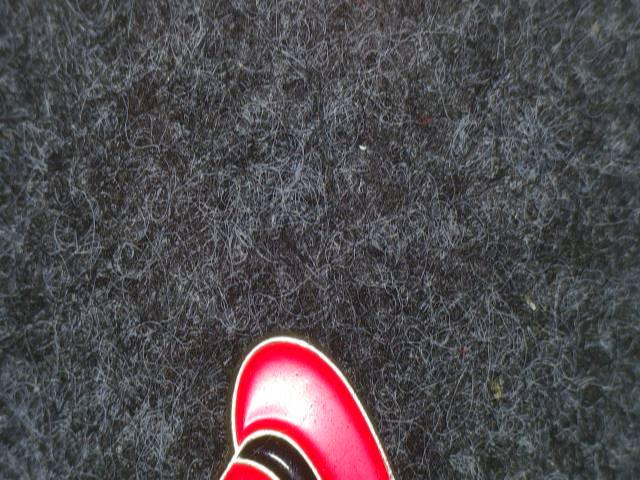Red-Hat: (198, 315, 414, 480)
